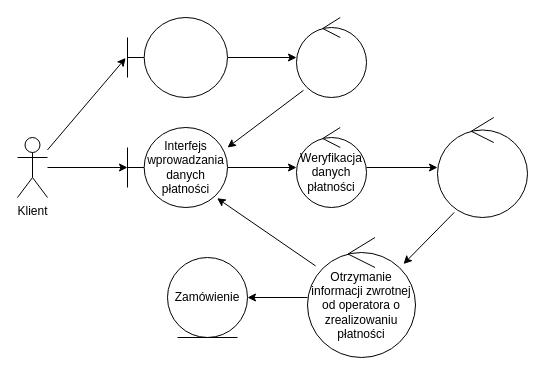
This 545x375 diagram has some shape labels left out. The shapes that lost their labels are listed below. From the top down, each one's centre as x and y in pixels, then its label:
At (x=177, y=57): "Interfejs wyboru metody płatności".
At (x=331, y=57): "Wybór metody płatności".
At (x=482, y=167): "Przekazanie danych do operatora płatności".
